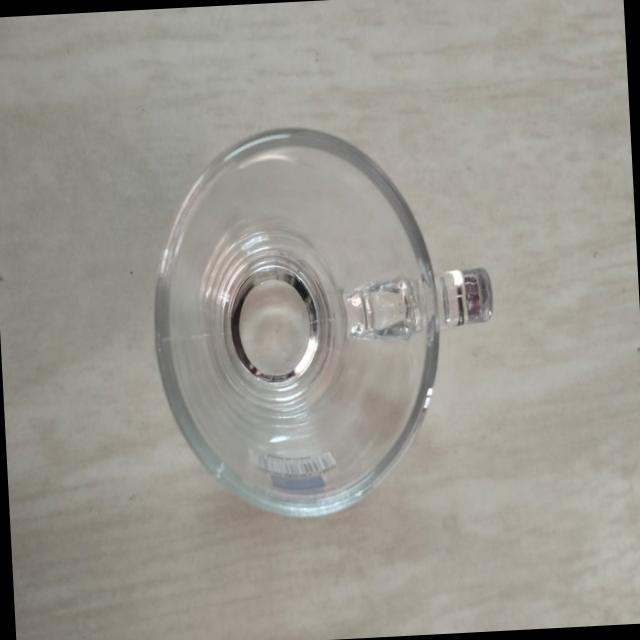glass-VX4N: (127, 96, 519, 548)
